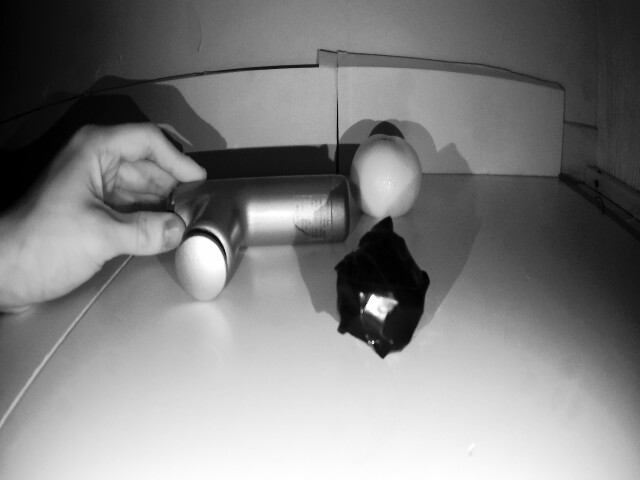silver: (332, 224, 447, 355)
